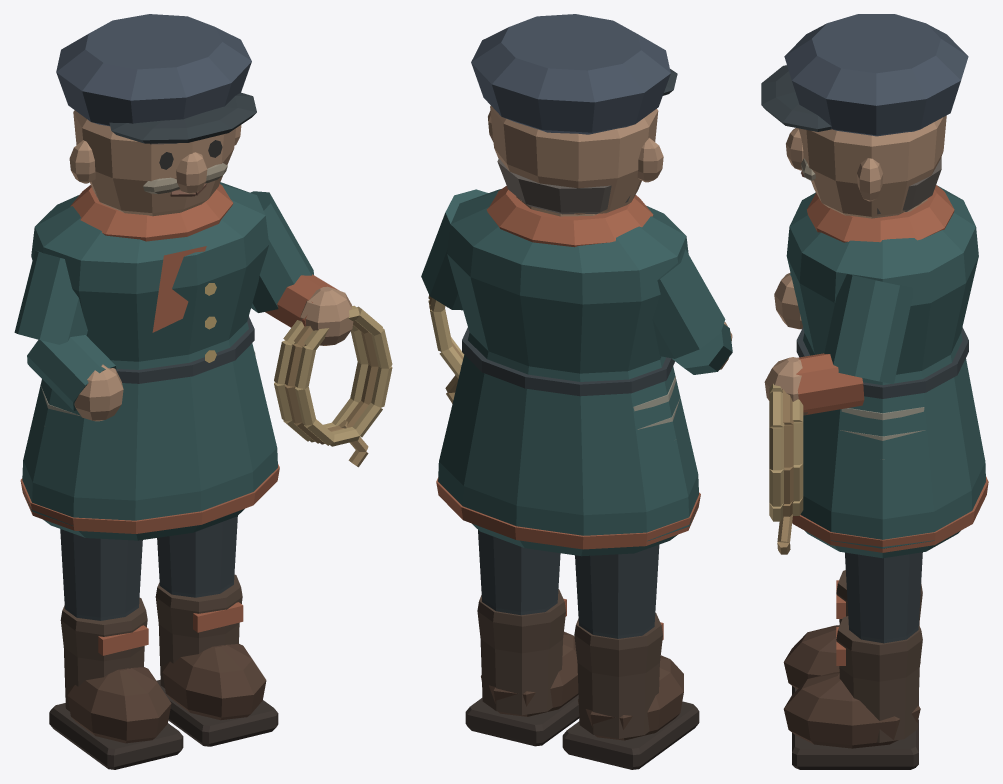
The model's file is net_mender.glb.
3 views of the same model, side by side, from view 1: azimuth 30°, elevation 25°; view 2: azimuth 150°, elevation 25°; view 3: azimuth 270°, elevation 25° (orthographic). The views are drawn at different scales.
Parts seen in each view (by area): view 1: Coat and head, Hip.L, Hip.R, Shoulder.R; view 2: Coat and head, Hip.L, Hip.R, Shoulder.R; view 3: Coat and head, Hip.R, Shoulder.R, Hip.L.
Boxes of the visible parts, left/top/right/bottom form: Coat and head: left=14, top=14, right=279, bottom=540; Hip.L: left=49, top=529, right=183, bottom=769; Hip.R: left=155, top=516, right=278, bottom=746; Shoulder.R: left=250, top=191, right=392, bottom=467; Coat and head: left=436, top=14, right=732, bottom=556; Hip.L: left=562, top=545, right=699, bottom=769; Hip.R: left=465, top=530, right=579, bottom=746; Shoulder.R: left=421, top=189, right=488, bottom=403; Coat and head: left=761, top=14, right=988, bottom=558; Hip.R: left=783, top=552, right=922, bottom=769; Shoulder.R: left=764, top=274, right=912, bottom=554; Hip.L: left=783, top=570, right=922, bottom=705.
Size of the model in its own units: 0.7268 by 1.44 by 0.4314.
